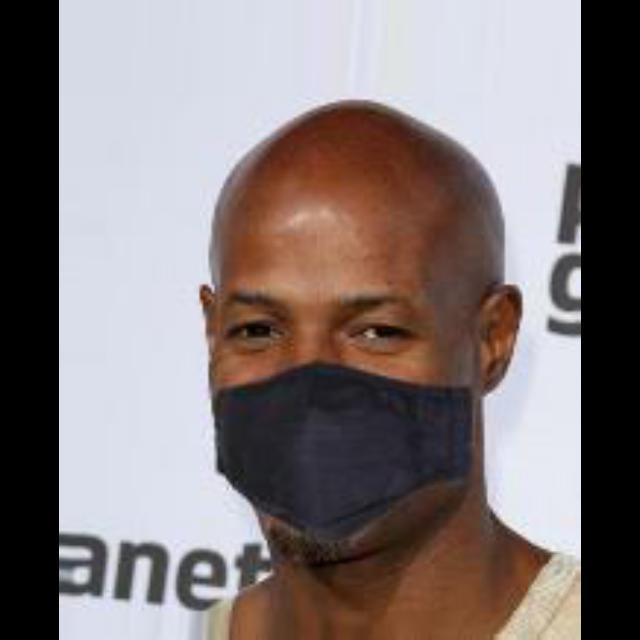suspicion: (196, 102, 492, 528)
